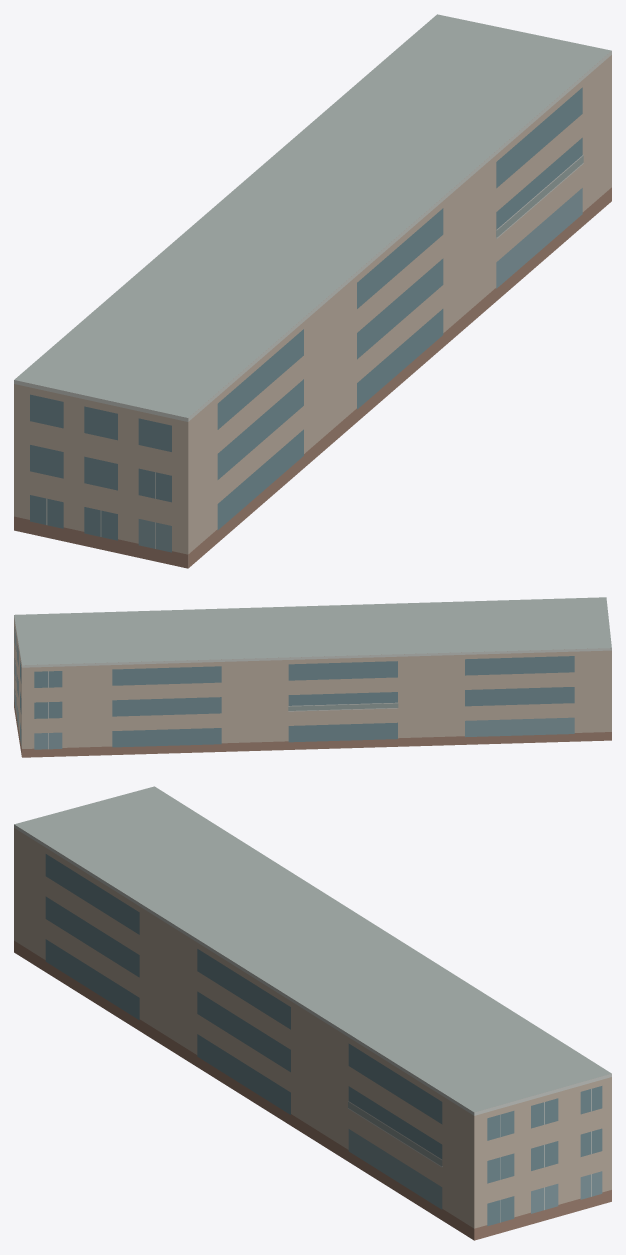
File: survey-upis-32978861.glb
3 renders of one model, top to bottom at view 1: azimuth 30°, elevation 25°; view 2: azimuth 150°, elevation 25°; view 3: azimuth 270°, elevation 25°, orthographic. The views are drawn at different scales.
Visible parts, largest first — view 1: survey-upis-32978861.tmp; view 2: survey-upis-32978861.tmp; view 3: survey-upis-32978861.tmp.
Part boxes in pixels (<box>): survey-upis-32978861.tmp: <box>14,14,611,568</box>; survey-upis-32978861.tmp: <box>14,597,611,757</box>; survey-upis-32978861.tmp: <box>14,786,611,1240</box>.
Bounding box in the file's own units: 49.98 × 9.15 × 38.71.
